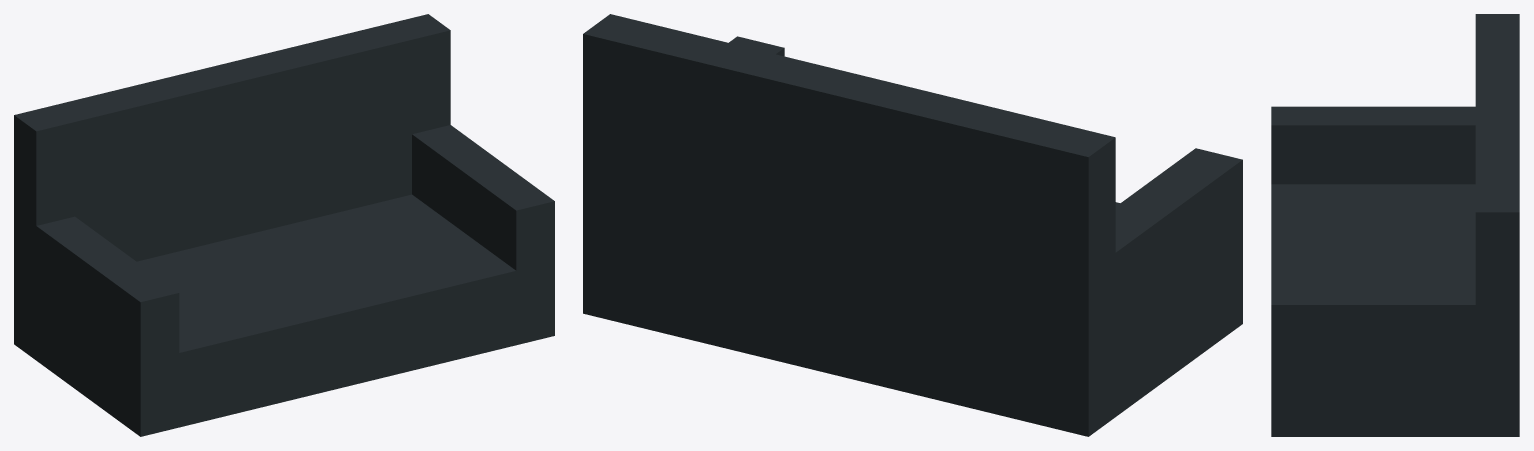
File: sofa.fbx
The picture shows the model from 3 angles, left to right: view 1: azimuth 30°, elevation 25°; view 2: azimuth 150°, elevation 25°; view 3: azimuth 270°, elevation 25°; orthographic projection. The views are drawn at different scales.
Parts seen in each view (by area): view 1: Cube; view 2: Cube; view 3: Cube.
Part boxes in pixels (box(x1,y1,x2,y2)): Cube: box(14, 14, 554, 436); Cube: box(583, 14, 1242, 436); Cube: box(1271, 14, 1519, 436).
Size of the model in its own units: 756 by 400 by 400.
